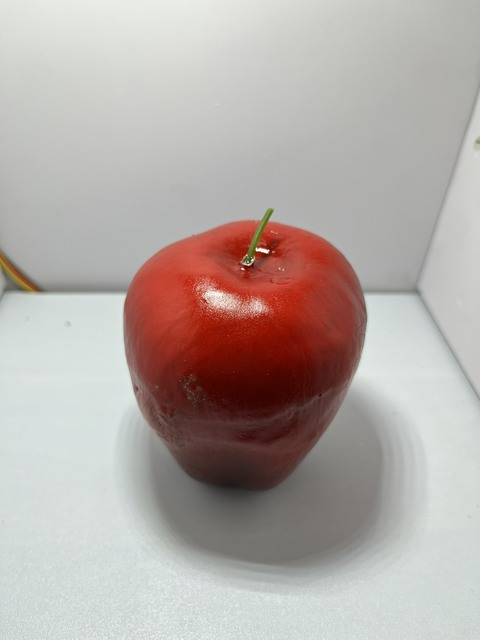Tao: (115, 214, 372, 502)
